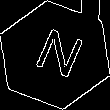N_S: (25, 24, 85, 86)
